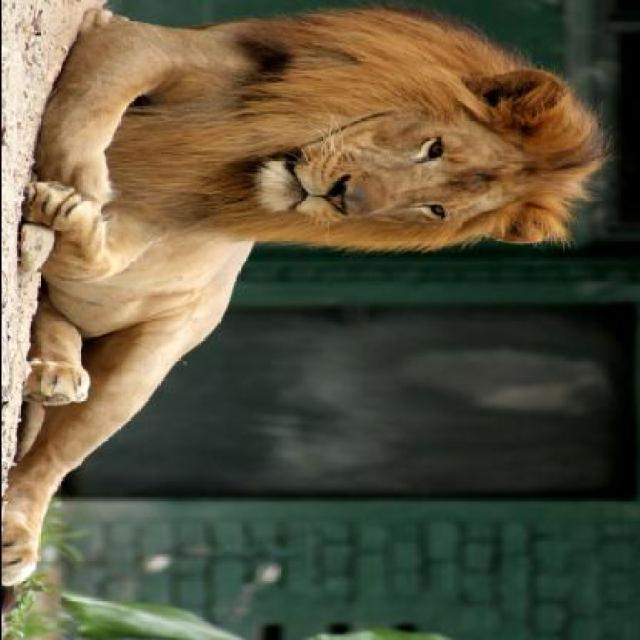Lion: (1, 0, 608, 603)
